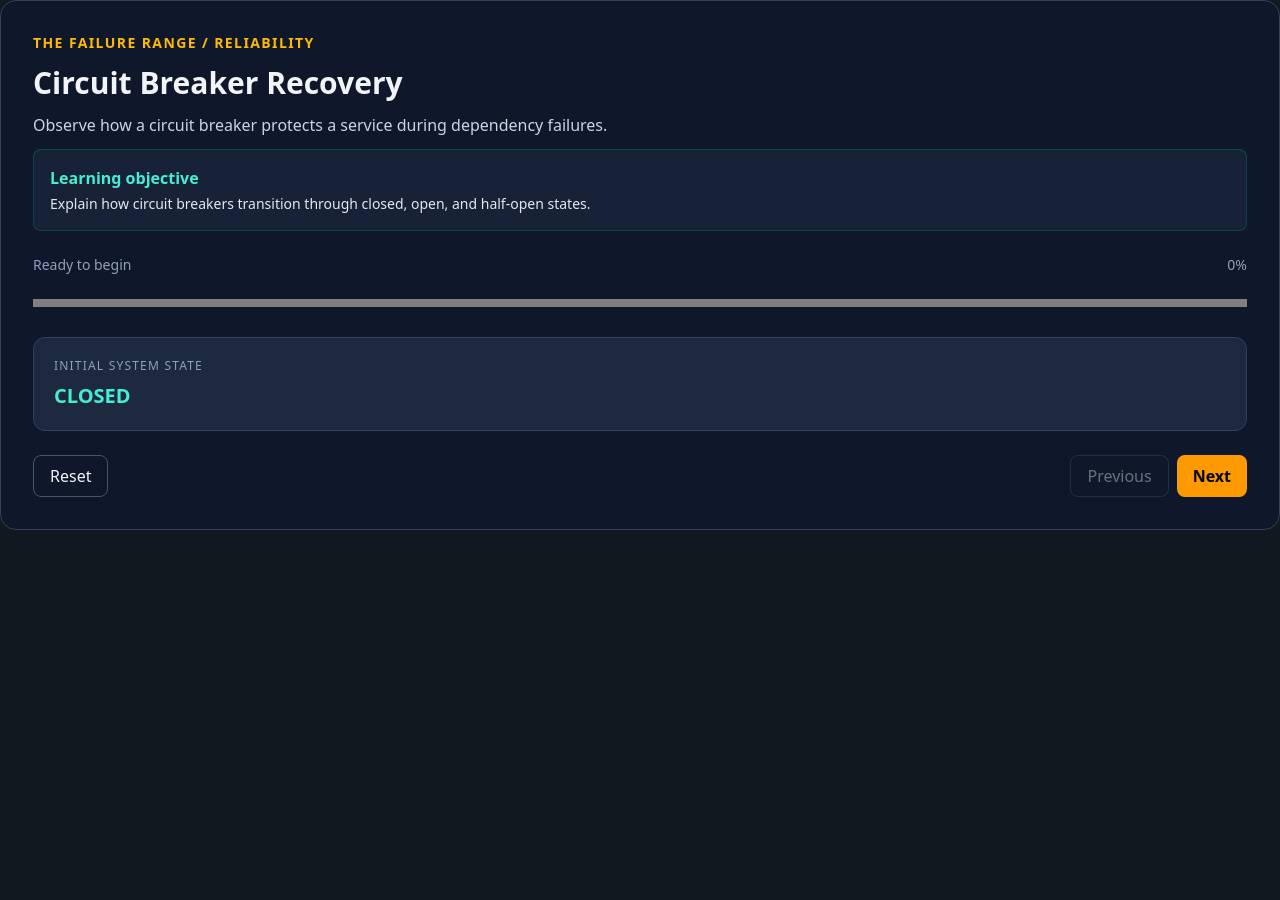
Test: SimulationPlayer › returns to the previous step
The width and height of the screenshot is (1280, 900).
Click the button "Next": [1212, 476] box x1=1177 y1=455 x2=1247 y2=497
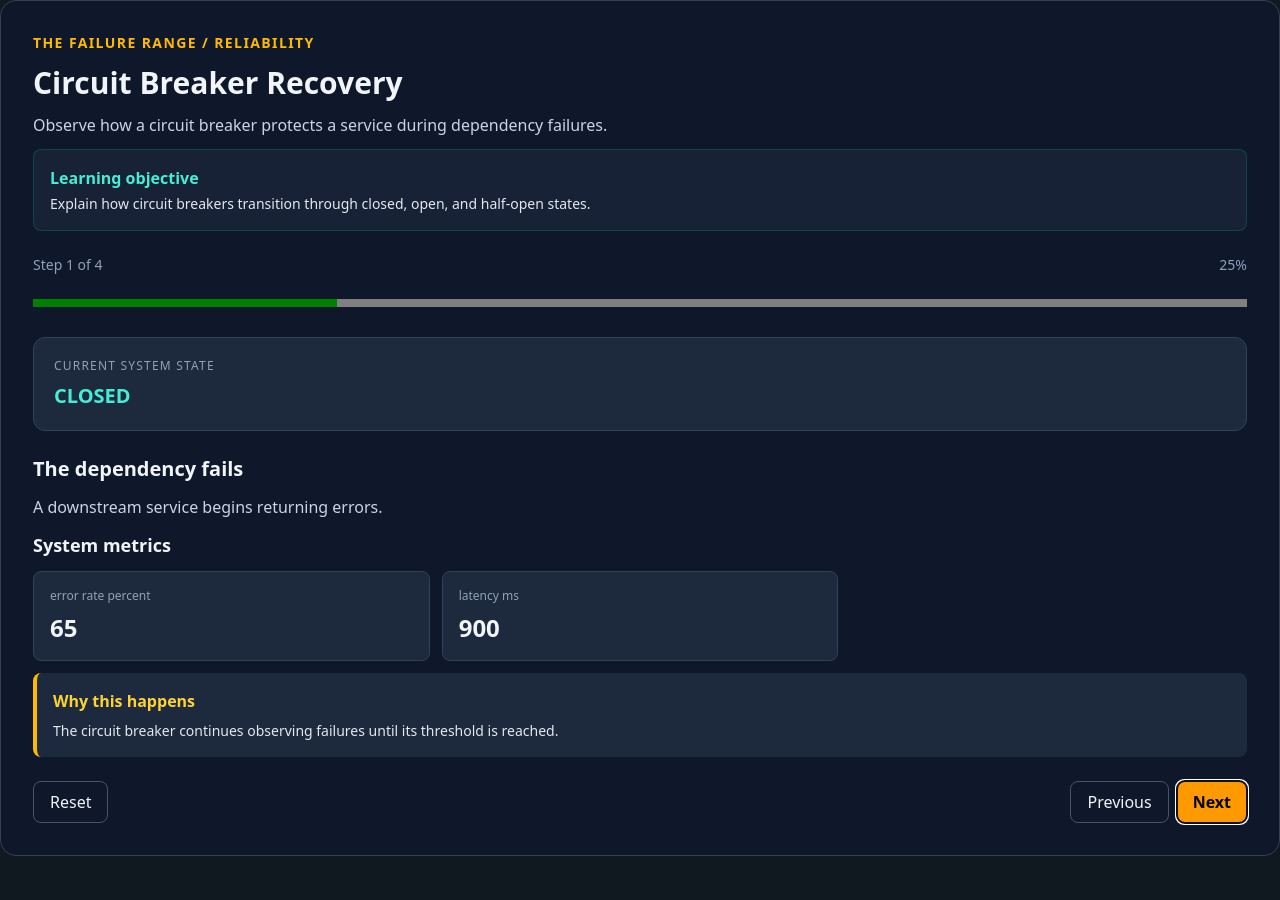
Click the button "Next": [1212, 802] box x1=1177 y1=781 x2=1247 y2=823
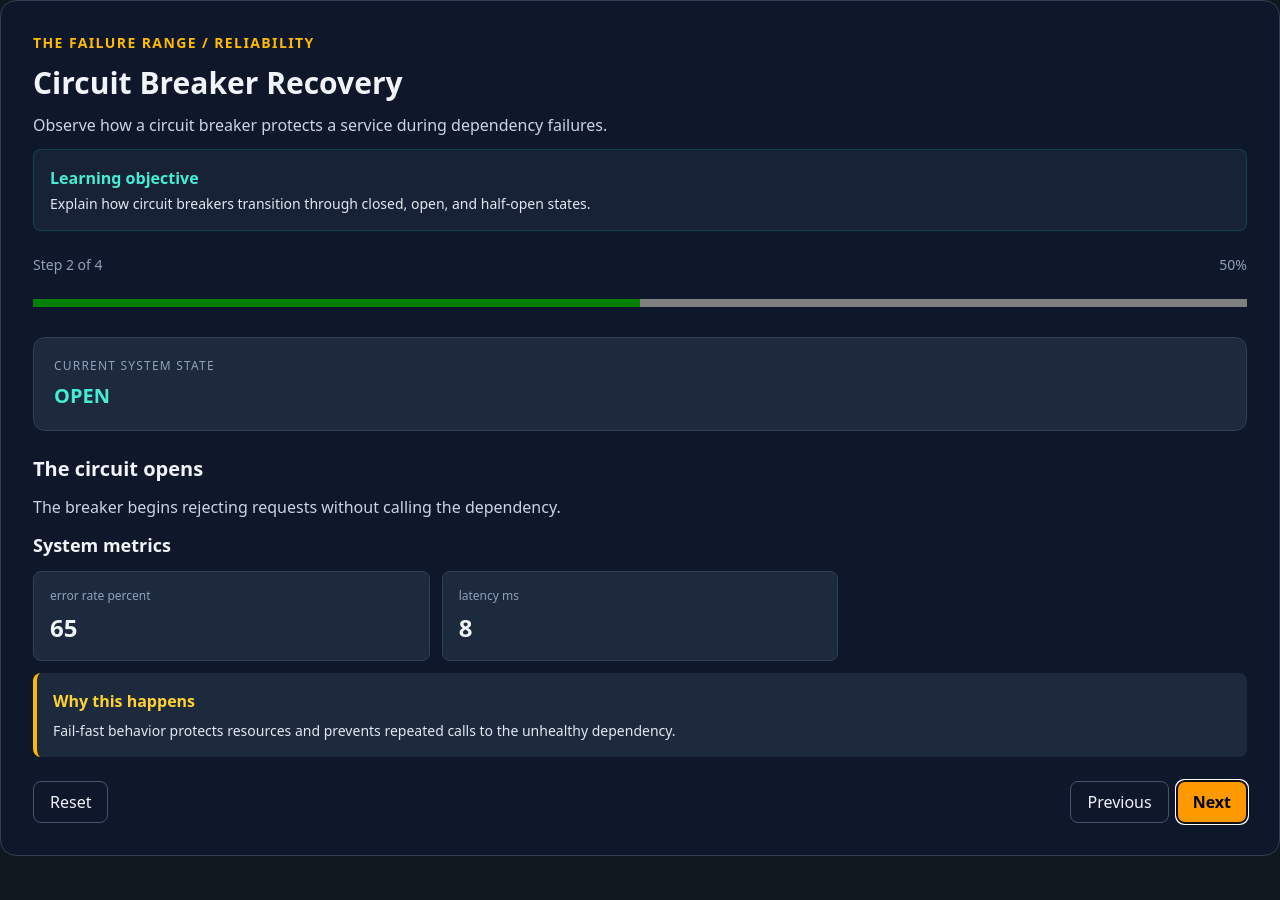
Click the button "Previous": [1120, 802] box x1=1070 y1=781 x2=1169 y2=823
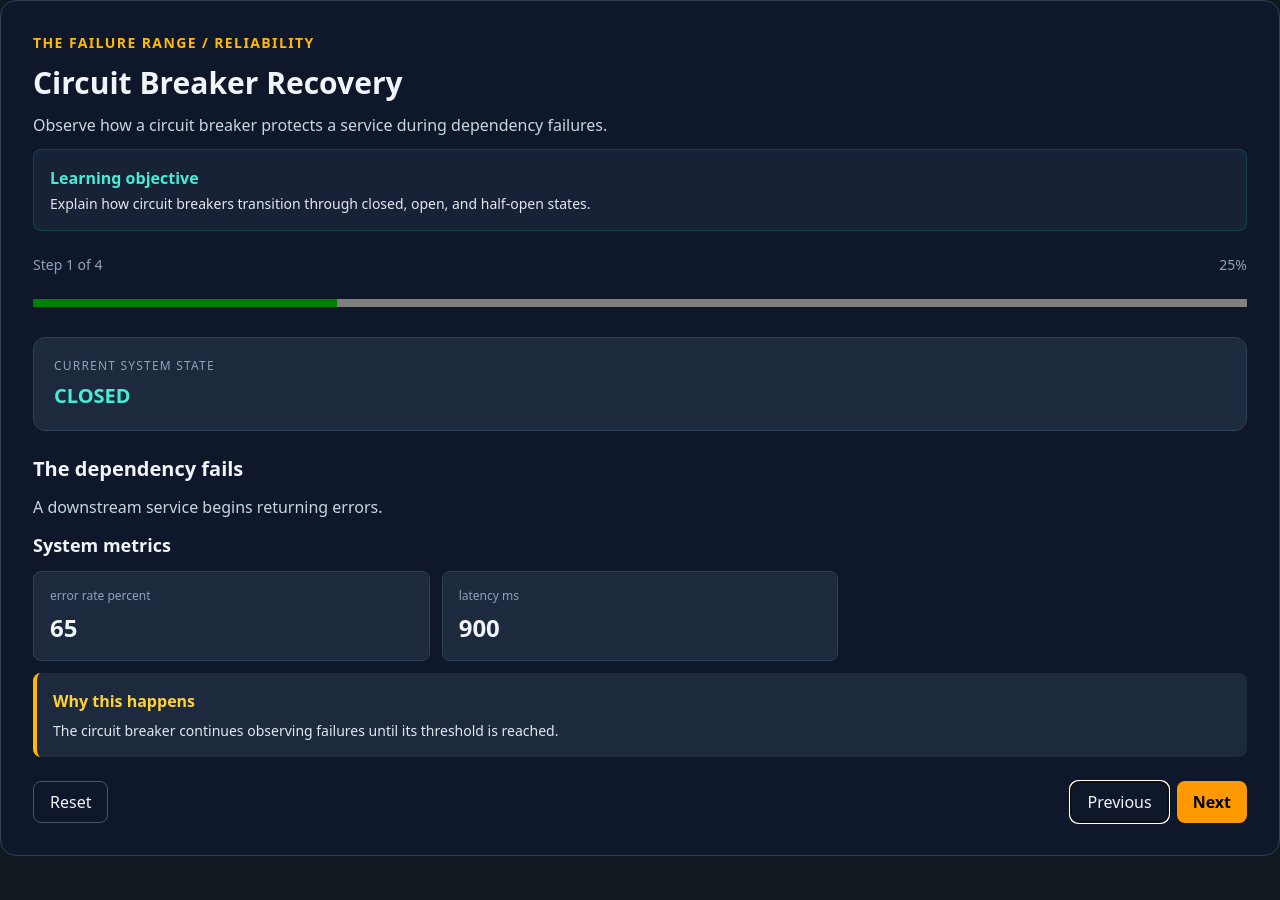
Result: the heading "The dependency fails" is shown at x1=33 y1=455 x2=243 y2=482
